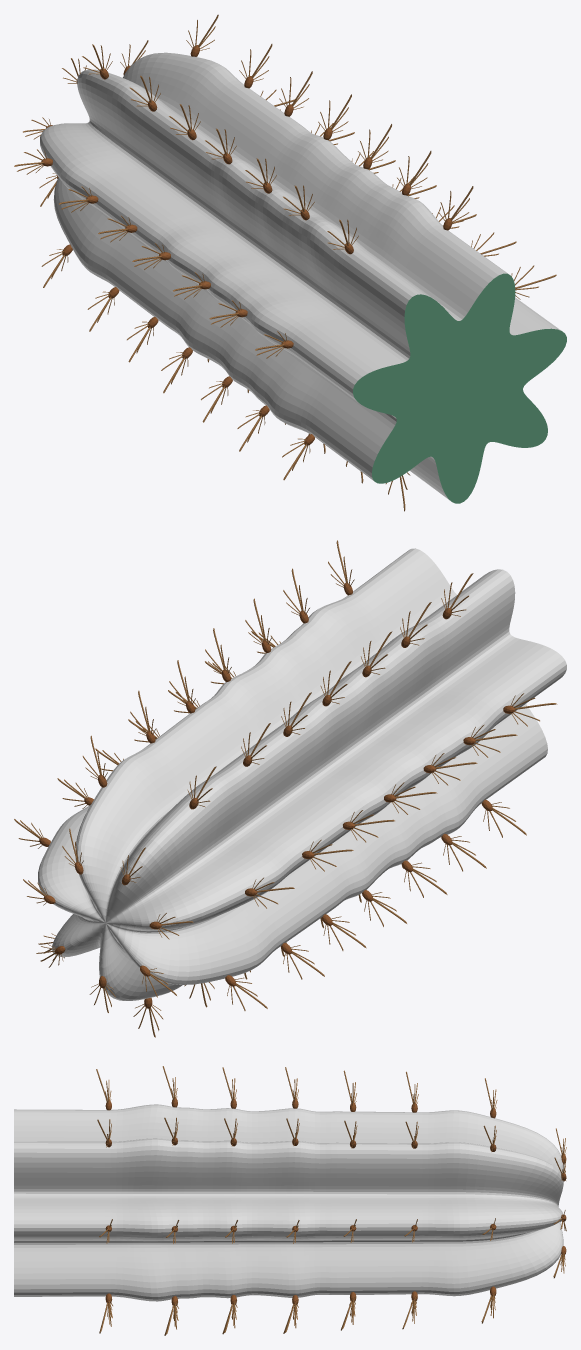
File: frame-180.glb
3 views of the same model, one above another, from view 1: azimuth 30°, elevation 25°; view 2: azimuth 150°, elevation 25°; view 3: azimuth 270°, elevation 25° (orthographic). The views are drawn at different scales.
Parts seen in each view (by area): view 1: WACHUMA_Pachanoi_Frame_180; view 2: WACHUMA_Pachanoi_Frame_180; view 3: WACHUMA_Pachanoi_Frame_180.
Part boxes in pixels (x1,y1,x2,y2): WACHUMA_Pachanoi_Frame_180: (14, 14, 566, 511); WACHUMA_Pachanoi_Frame_180: (14, 540, 566, 1037); WACHUMA_Pachanoi_Frame_180: (14, 1066, 566, 1335).
Bounding box in the file's own units: 1.24 × 1.21 × 2.48.
